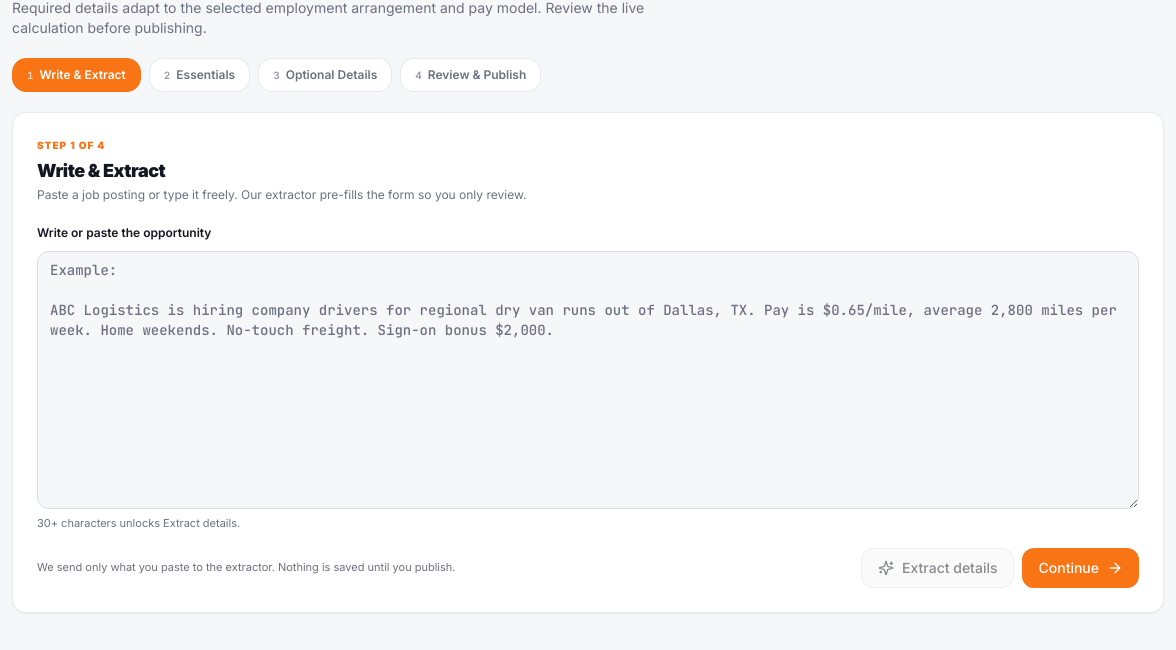
Test case: CF-1C-B 10) optional structured controls in the authoring form › 10f) the free-text Requirements field is still present and unchanged
This screenshot has width=1176, height=650.
Click the tab "3Optional Details" at (325, 75), box [258,58,392,92]
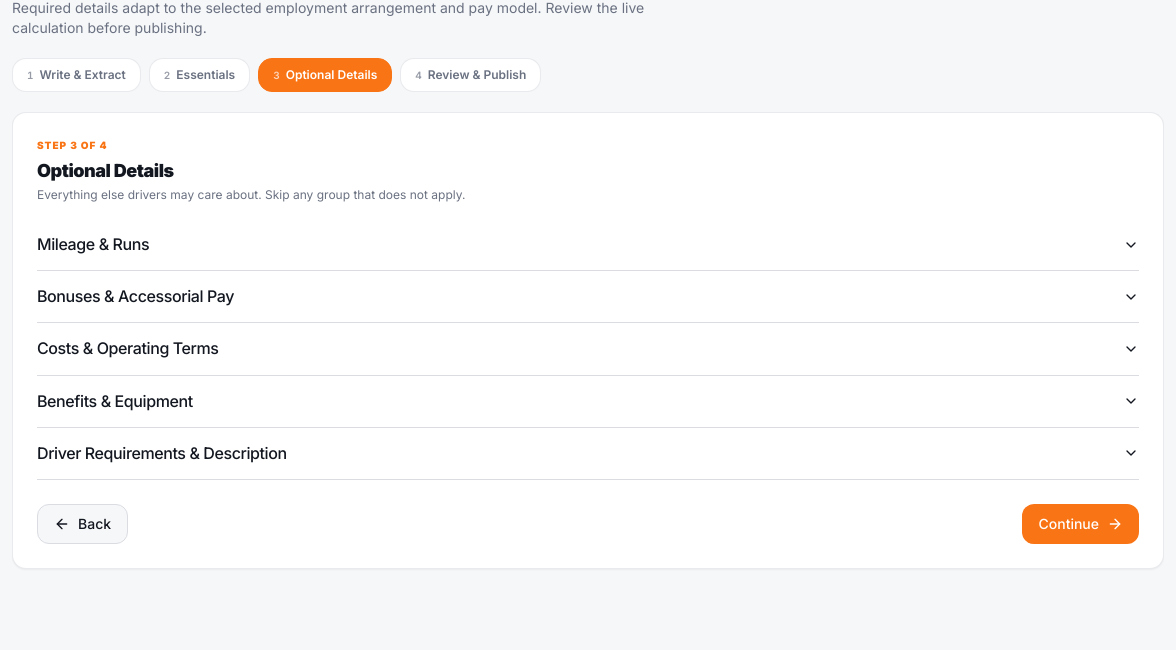
Click the button "Driver Requirements & Description" at (162, 453), box [37,428,1139,479]
(page scrolled)
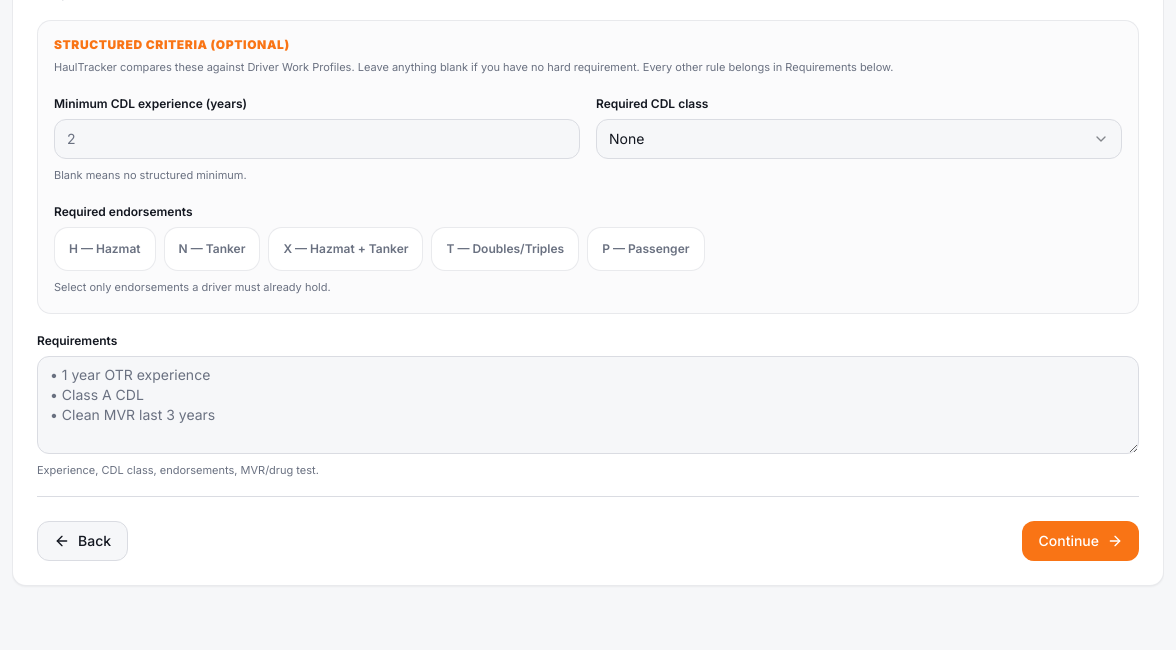
Check: the text box named "Requirements" is shown, box [37,356,1139,454]
